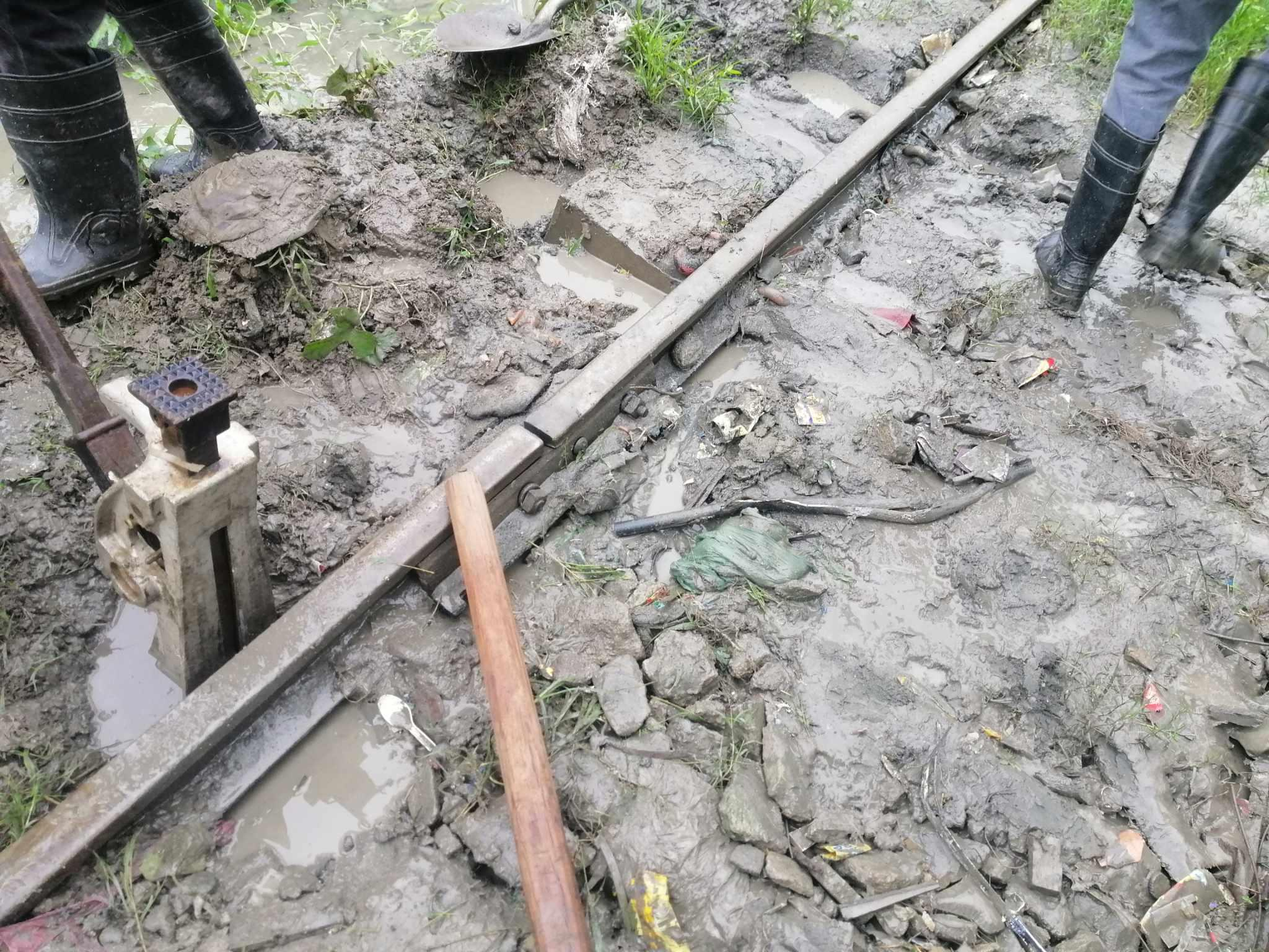railway-gap: (487, 386, 580, 484)
